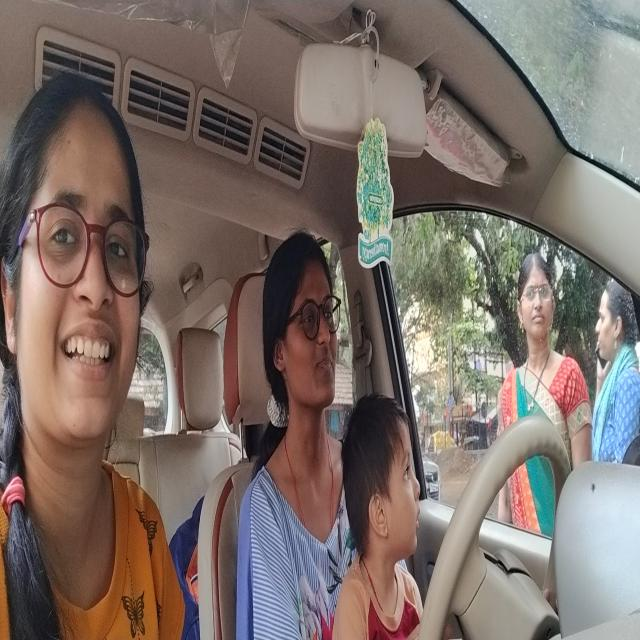child: (340, 388, 426, 572)
person: (0, 59, 155, 449), (261, 227, 342, 415)
